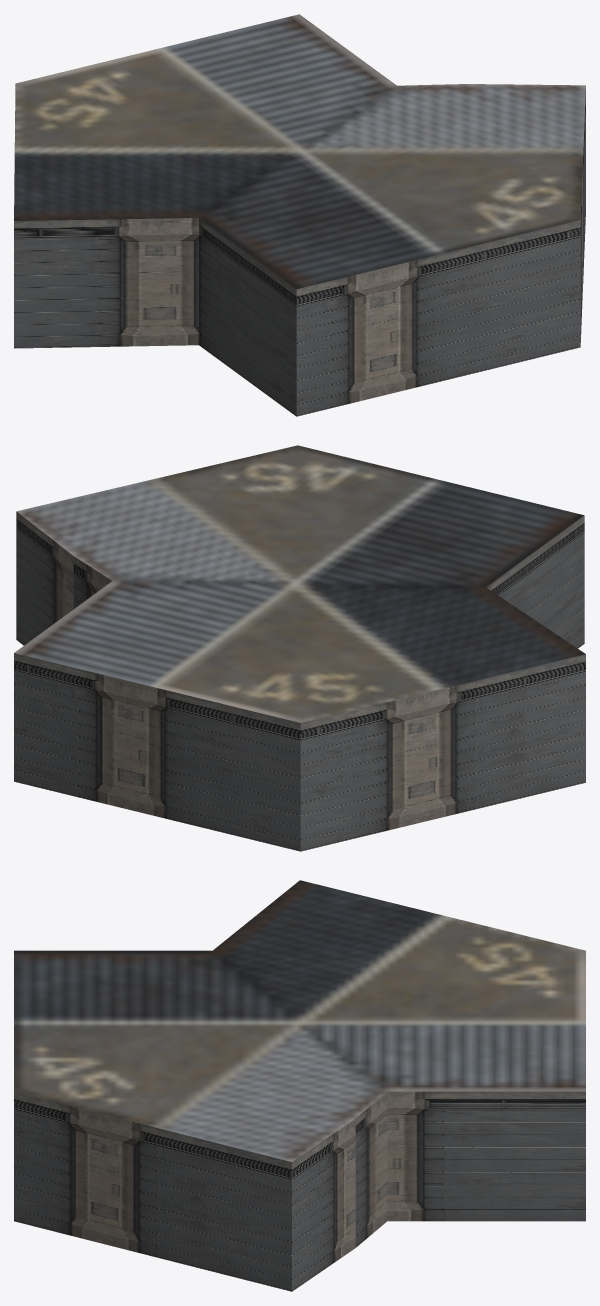
The model's file is hangar_light_45.glb.
The picture shows the model from 3 angles, top to bottom: view 1: azimuth 30°, elevation 25°; view 2: azimuth 150°, elevation 25°; view 3: azimuth 270°, elevation 25°; orthographic projection.
Visible parts, largest first — view 1: buildings/saxarba/hangar_light/hangar_light_45; view 2: buildings/saxarba/hangar_light/hangar_light_45; view 3: buildings/saxarba/hangar_light/hangar_light_45.
Part boxes in pixels (box(x1,y1,x2,y2)): buildings/saxarba/hangar_light/hangar_light_45: box(14, 14, 585, 416); buildings/saxarba/hangar_light/hangar_light_45: box(14, 445, 585, 851); buildings/saxarba/hangar_light/hangar_light_45: box(14, 880, 585, 1291).
Bounding box in the file's own units: 84 × 18 × 72.
